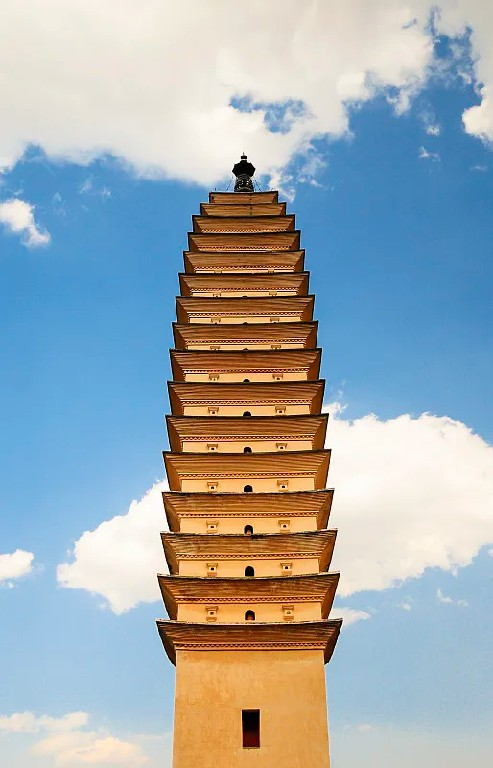ThreePagoda: (155, 152, 341, 768)
